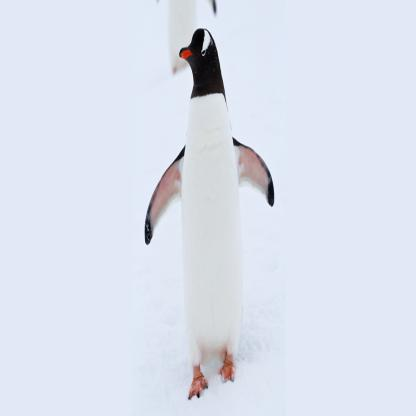Penguin: (120, 13, 280, 415)
